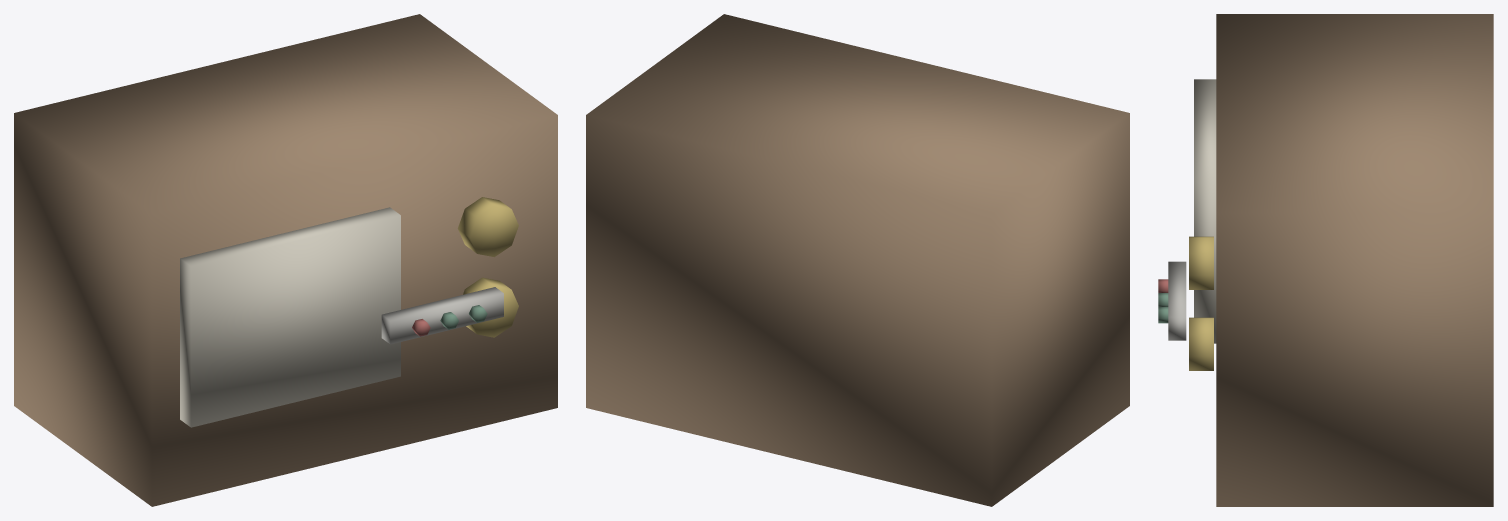
Rendered from tube_radio__deep.glb.
3 renders of one model, left to right at view 1: azimuth 30°, elevation 25°; view 2: azimuth 150°, elevation 25°; view 3: azimuth 270°, elevation 25°, orthographic.
Parts seen in each view (by area): view 1: world; view 2: world; view 3: world.
Part boxes in pixels (x1=…): world: x1=14, y1=14, x2=557, y2=506; world: x1=586, y1=14, x2=1129, y2=506; world: x1=1158, y1=14, x2=1493, y2=506.
Size of the model in its own units: 0.58 by 0.4 by 0.413.
